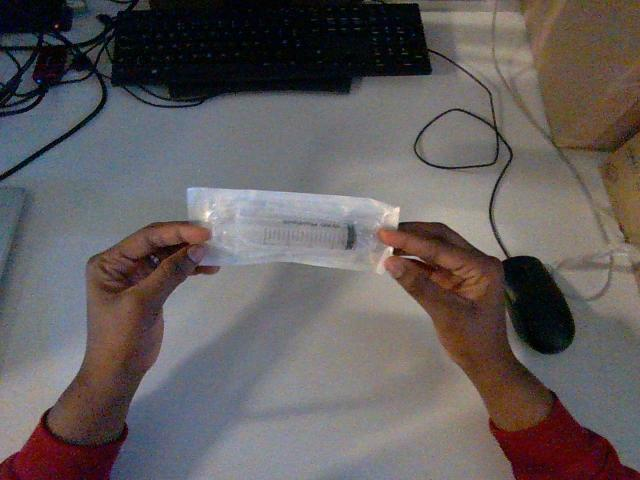syringe: (187, 188, 398, 272)
